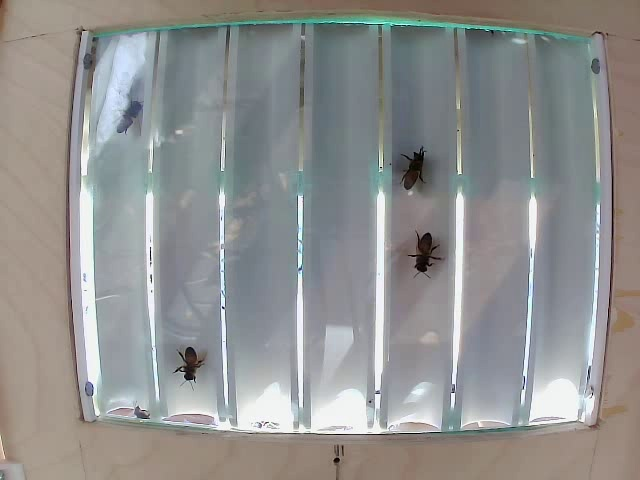bee: (413, 222, 457, 282), (400, 154, 432, 208), (168, 357, 204, 382)
